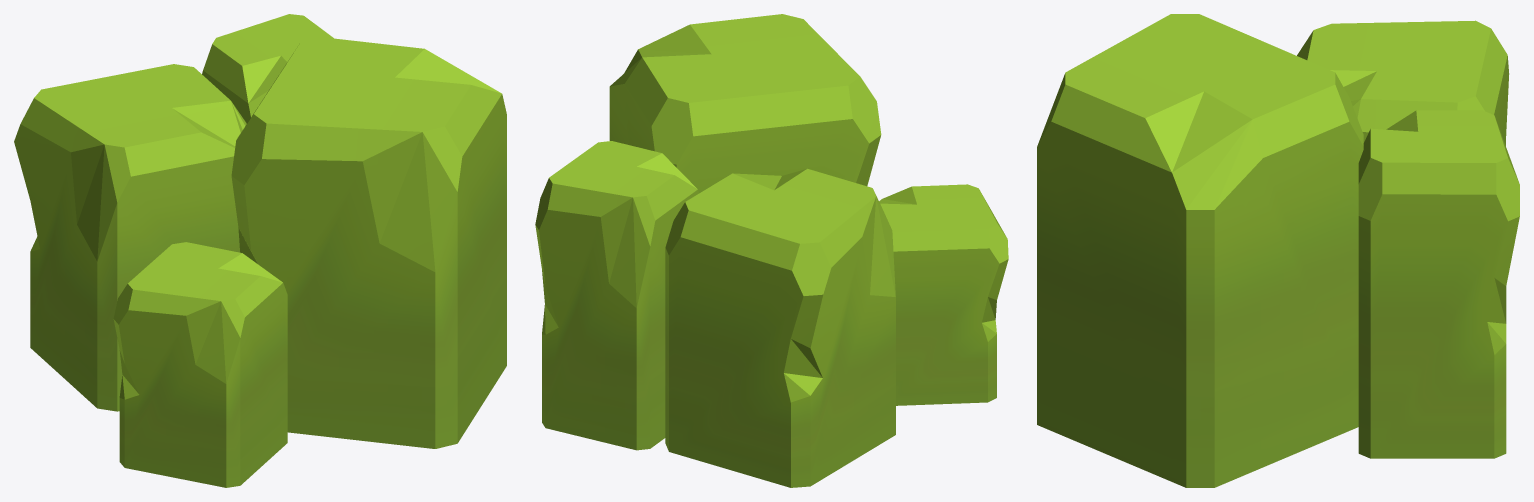
The model's file is RockS_7.obj.
3 views of the same model, side by side, from view 1: azimuth 30°, elevation 25°; view 2: azimuth 150°, elevation 25°; view 3: azimuth 270°, elevation 25° (orthographic). The views are drawn at different scales.
Visible parts, largest first — view 1: Cube.083, Cube.080, Cube.082, Cube.085; view 2: Cube.080, Cube.085, Cube.083, Cube.082; view 3: Cube.083, Cube.085, Cube.080.
Boxes of the visible parts, x1,y1,x2,y2 form: Cube.083: (231, 37, 506, 448); Cube.080: (14, 64, 246, 411); Cube.082: (113, 242, 287, 487); Cube.085: (202, 14, 333, 123); Cube.080: (665, 168, 895, 487); Cube.085: (535, 141, 698, 450); Cube.083: (609, 14, 881, 193); Cube.082: (879, 184, 1008, 405); Cube.083: (1037, 14, 1363, 487); Cube.085: (1358, 110, 1519, 458); Cube.080: (1297, 20, 1509, 145).
Size of the model in its own units: 1.01 by 0.7432 by 0.9542.
